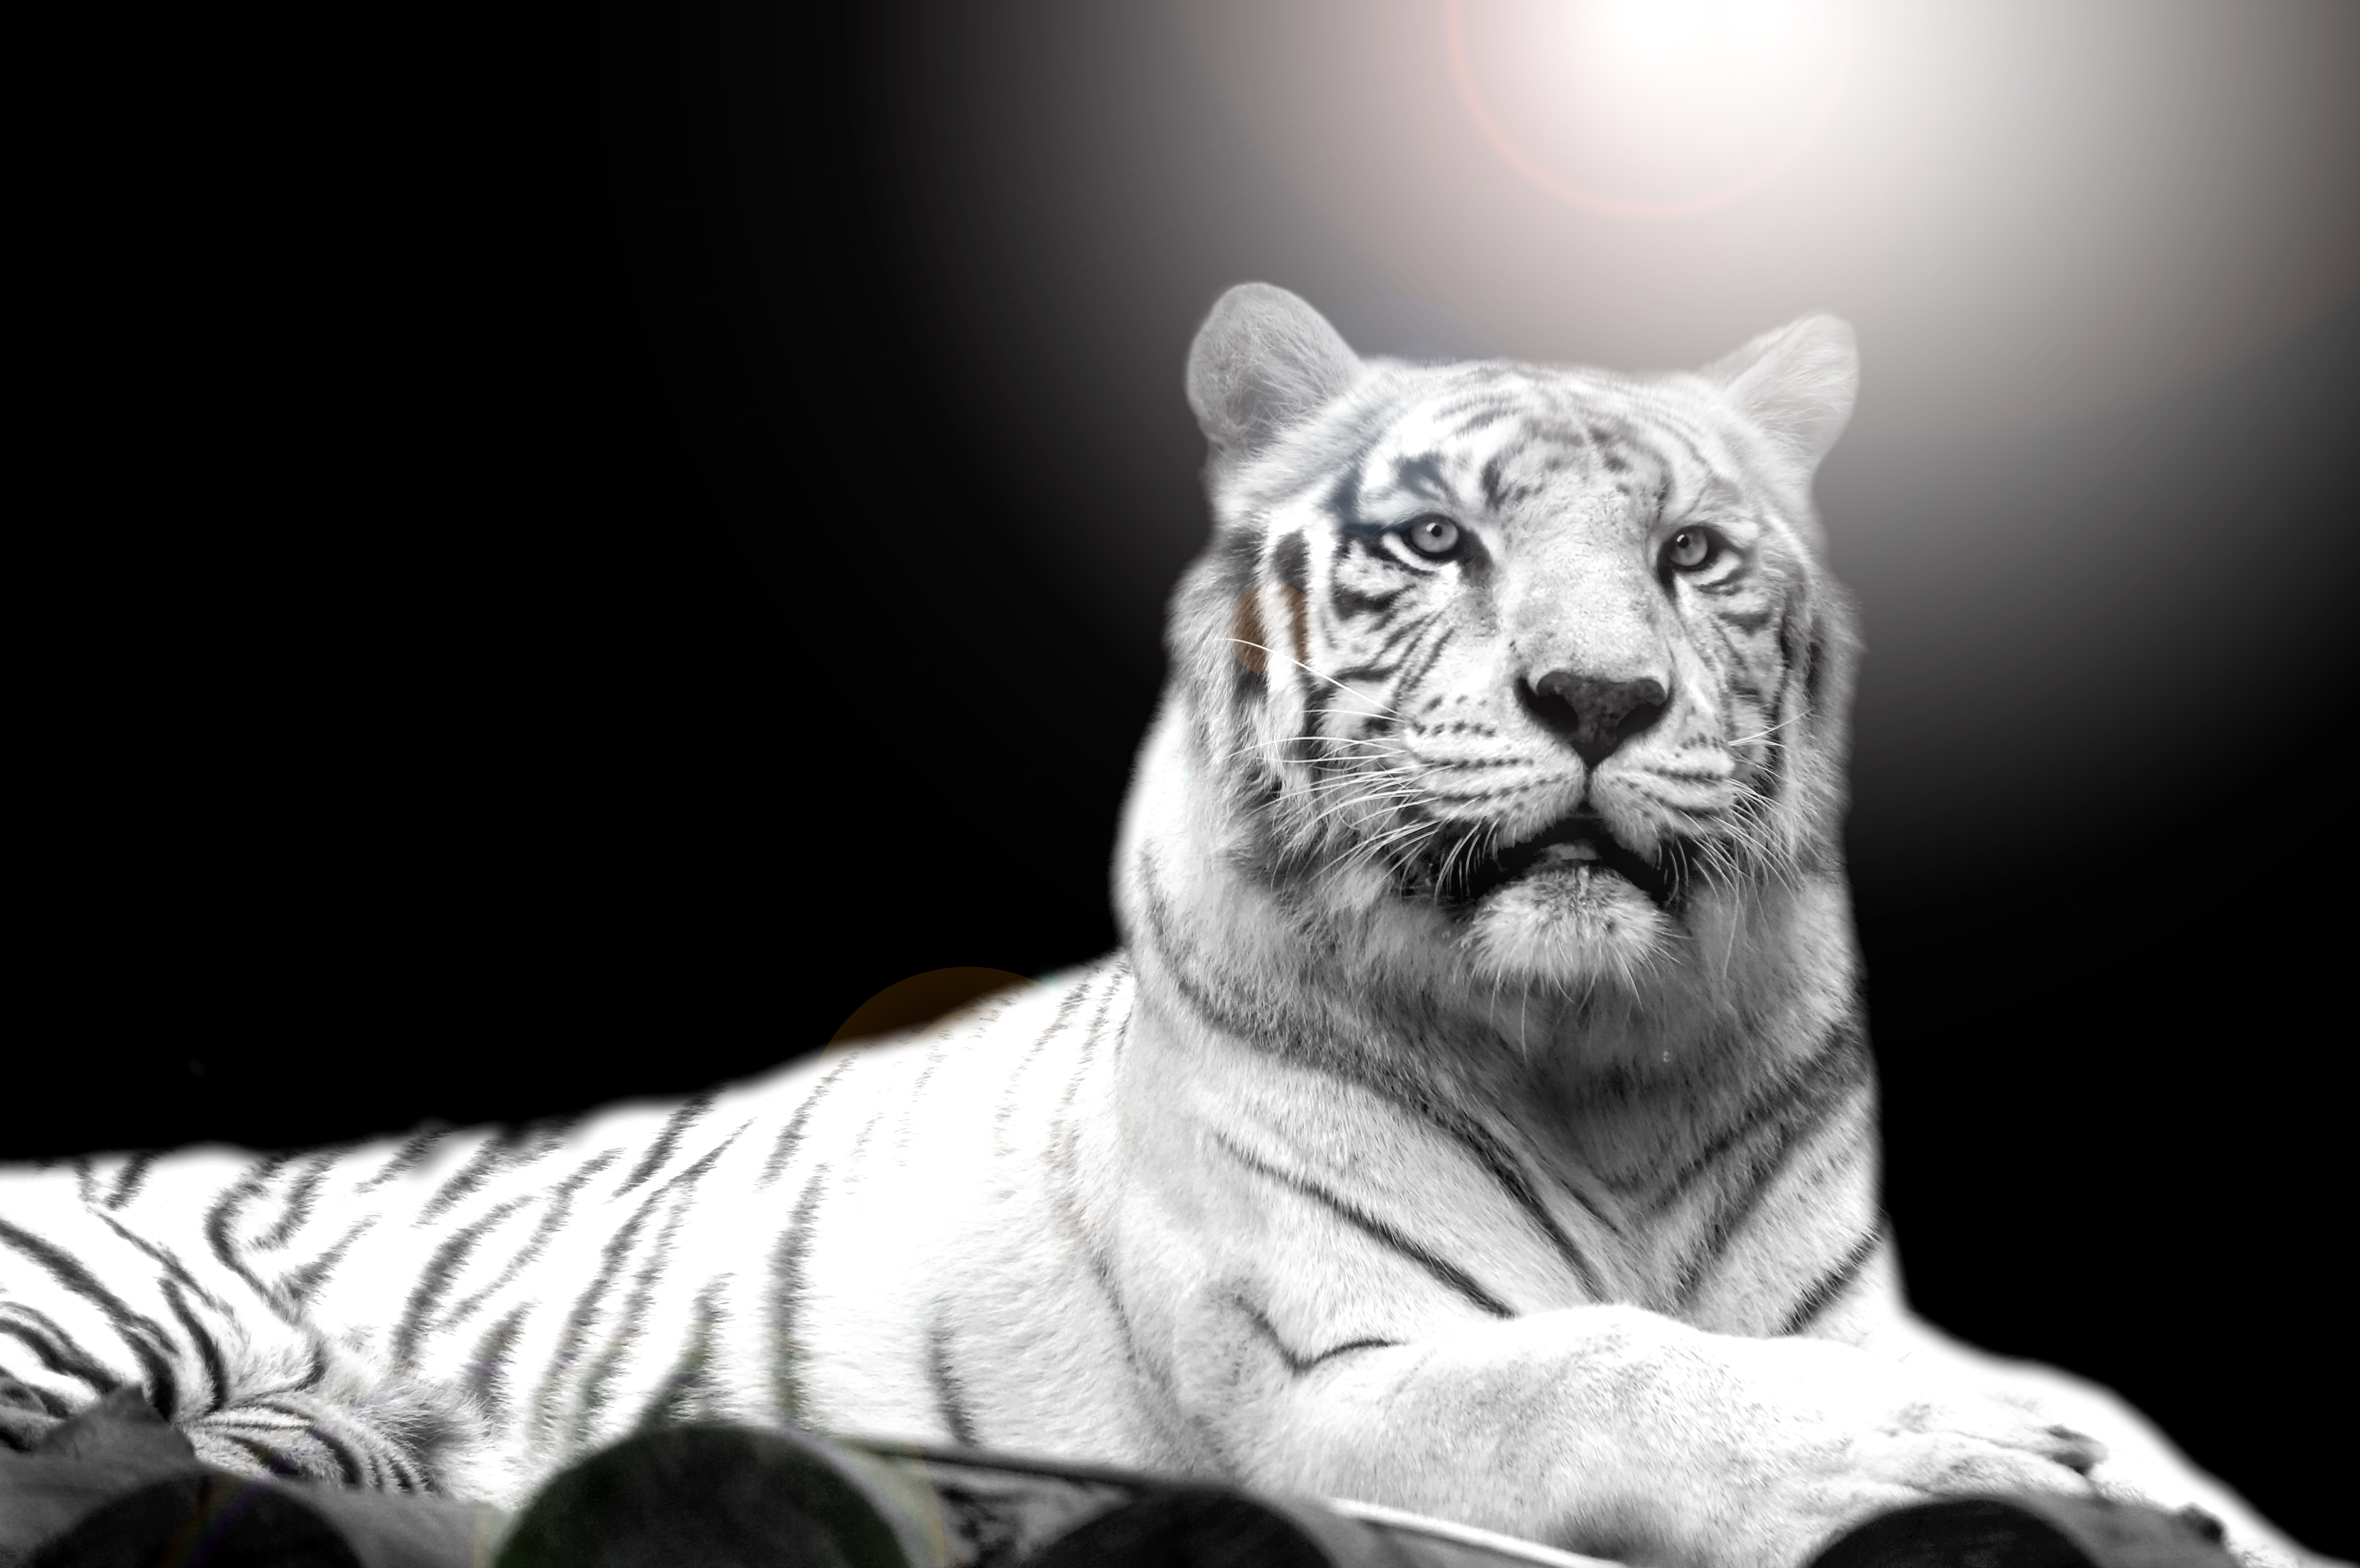tiger: (938, 304, 2129, 1526)
